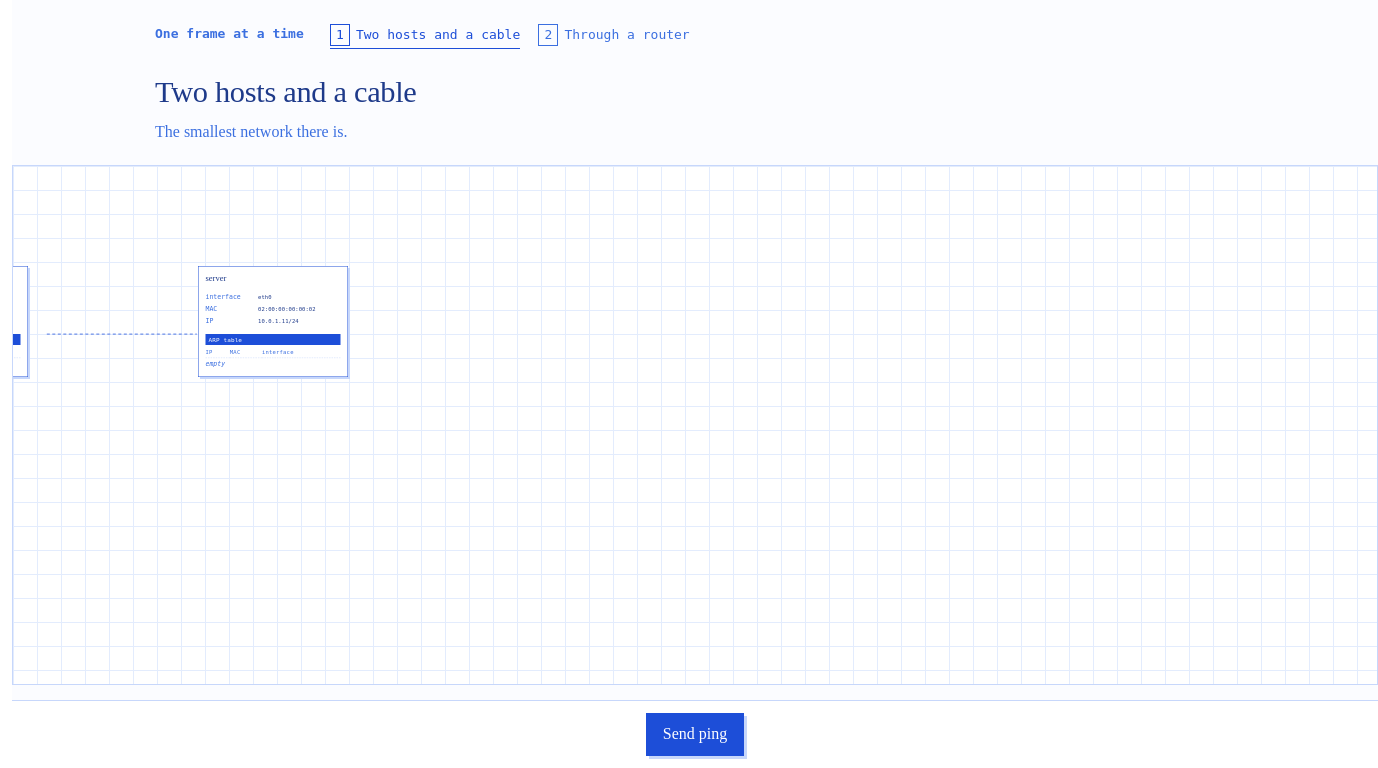
it: lesson picker and scenes › lists every lesson and switches to the one chosen
Check: the button "Send ping" is shown, box [646,713,744,756]
Click the link "Through a router" at (627, 34), box [564,27,690,42]
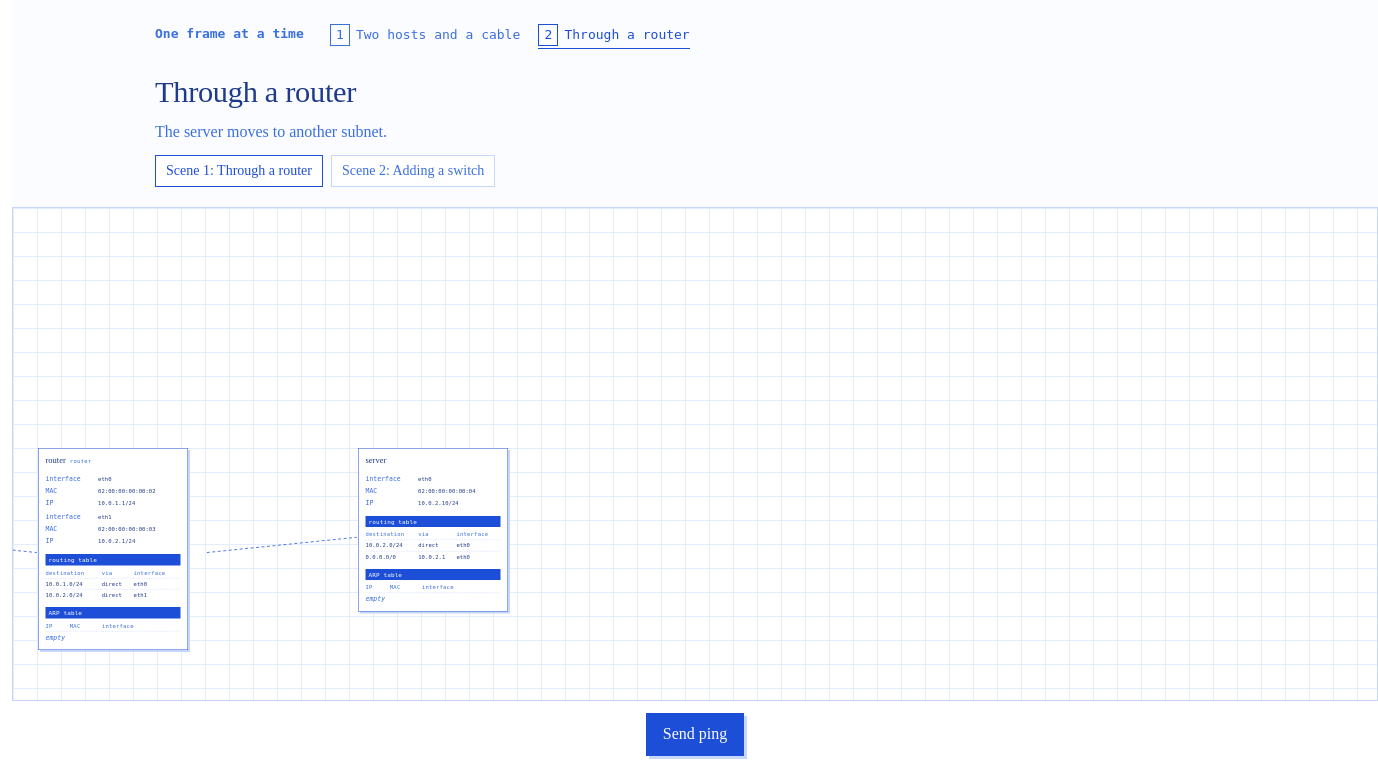
Check: the heading "Through a router" is shown, box [155,75,356,109]
Check: the element with test id "node-router" is shown, box [38,448,188,650]
